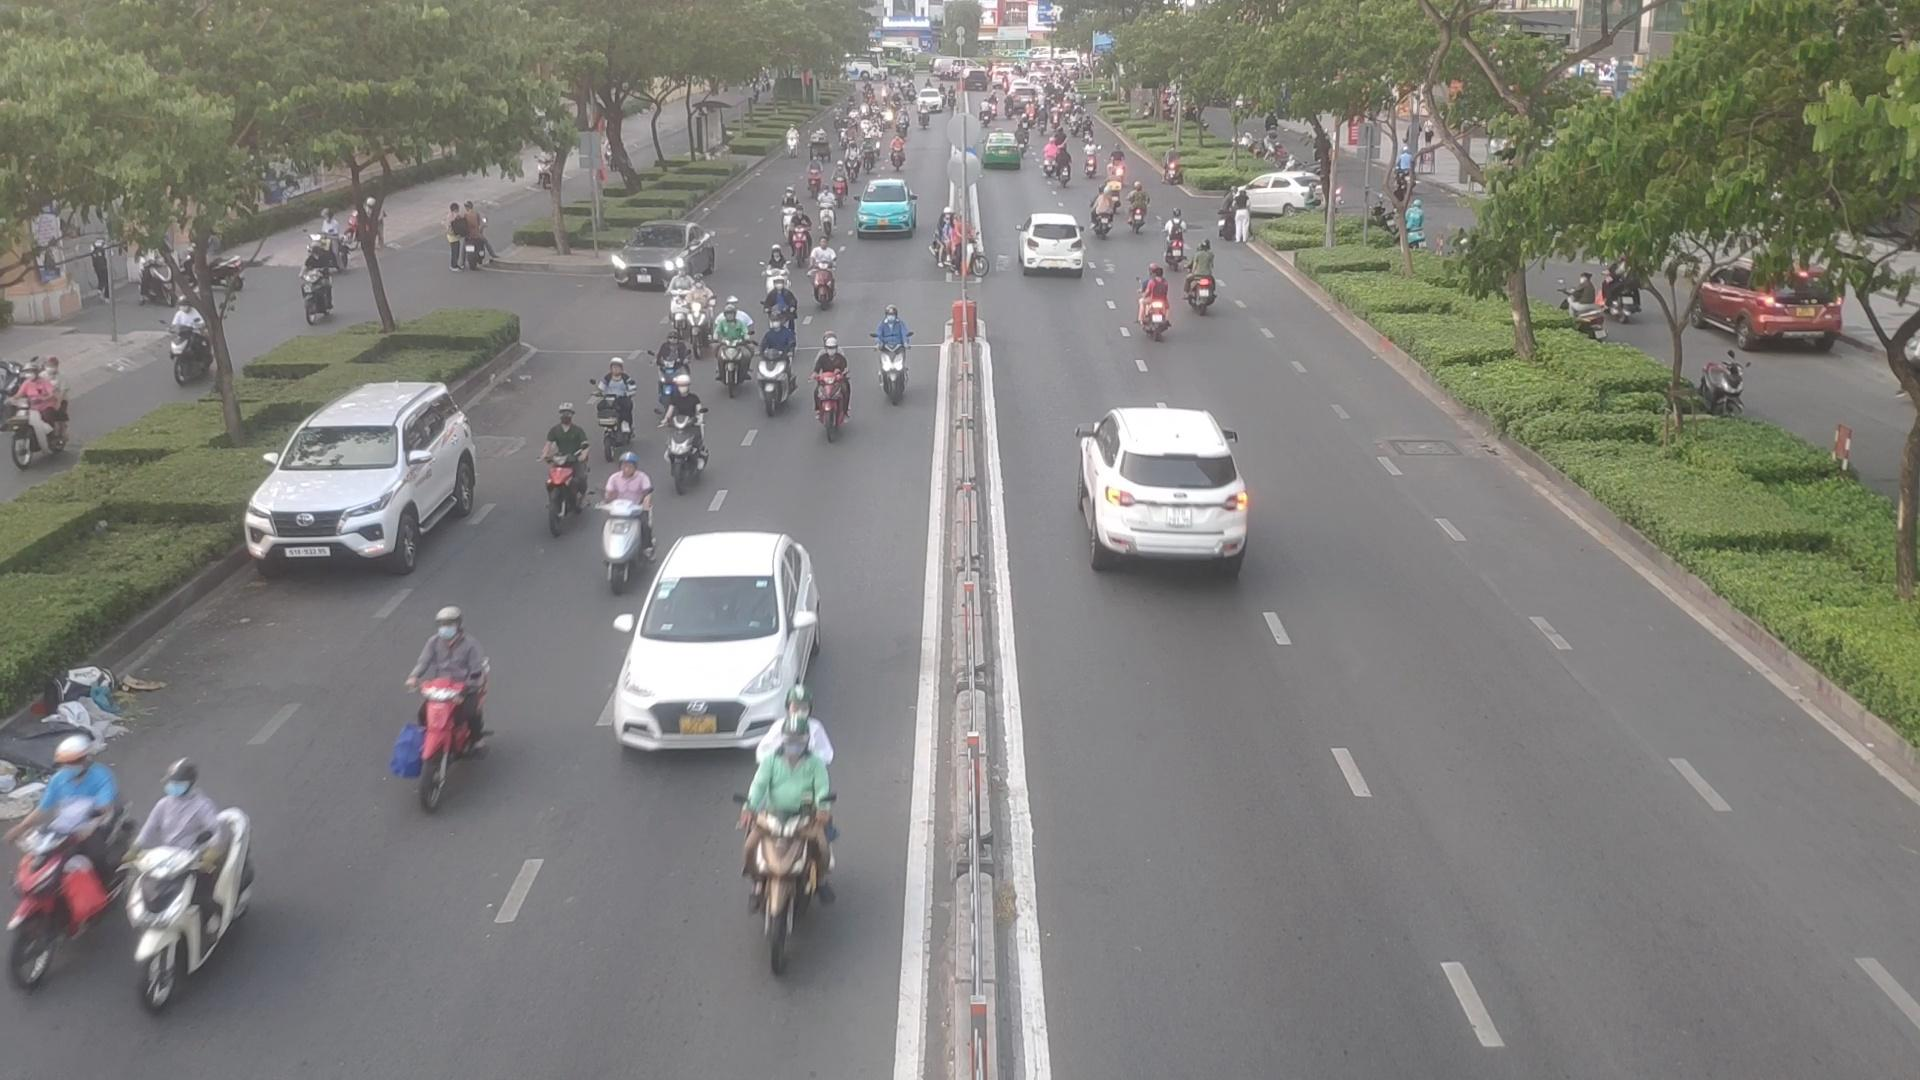car: (600, 537, 825, 752), (244, 382, 491, 570), (1079, 409, 1251, 566), (1697, 266, 1849, 355), (611, 223, 719, 293), (1018, 215, 1091, 277), (1238, 171, 1323, 218), (857, 179, 920, 239)
motorbike: (117, 740, 268, 1000), (741, 708, 881, 945), (0, 736, 123, 949), (398, 680, 501, 812), (593, 455, 674, 566), (541, 393, 591, 538), (580, 344, 644, 458), (860, 289, 914, 397), (807, 334, 862, 439), (948, 214, 1007, 301), (798, 243, 855, 315), (761, 318, 799, 425), (650, 324, 698, 404), (1189, 241, 1237, 315), (683, 386, 715, 491), (1142, 262, 1179, 349), (754, 272, 800, 340), (682, 269, 717, 357), (1164, 204, 1203, 268), (723, 295, 746, 394), (757, 243, 793, 309), (659, 264, 688, 342), (803, 190, 840, 249), (774, 210, 811, 255), (774, 190, 799, 241)
